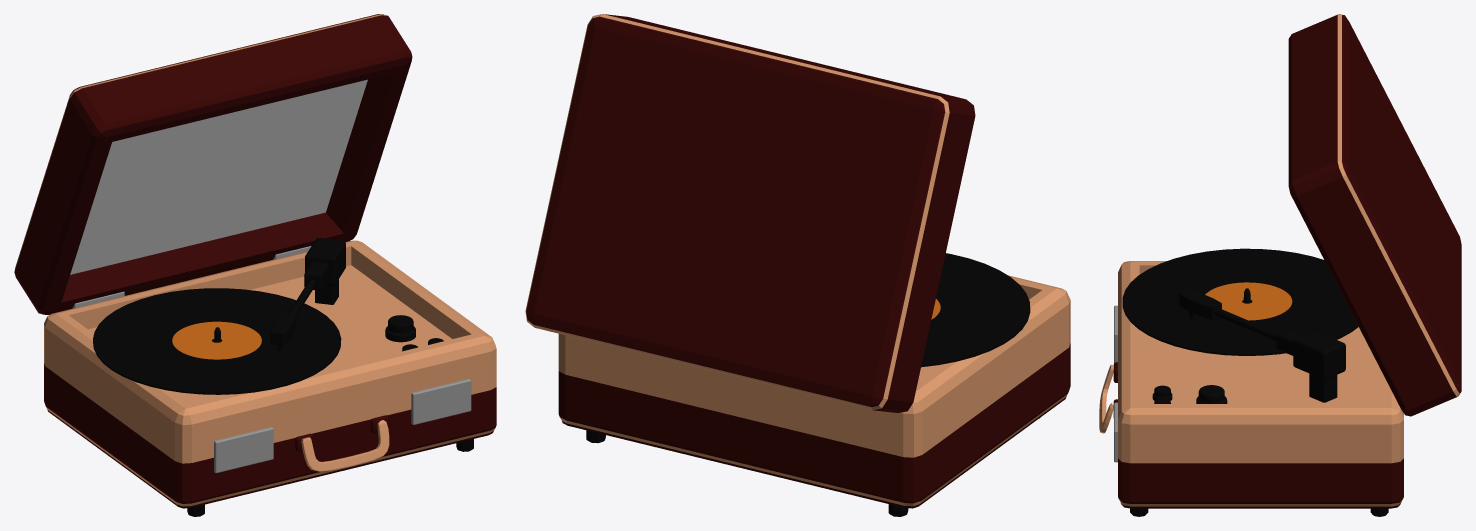
Rendered from RecordPlayer_1306.obj.
3 views of the same model, side by side, from view 1: azimuth 30°, elevation 25°; view 2: azimuth 150°, elevation 25°; view 3: azimuth 270°, elevation 25° (orthographic). The views are drawn at different scales.
Parts seen in each view (by area): view 1: ChamferCyl009; view 2: ChamferCyl009; view 3: ChamferCyl009.
Boxes of the visible parts, bbox=[...] form: ChamferCyl009: bbox=[14, 14, 496, 516]; ChamferCyl009: bbox=[525, 14, 1070, 516]; ChamferCyl009: bbox=[1099, 14, 1461, 516].
Size of the model in its own units: 81 by 84.67 by 77.13.
